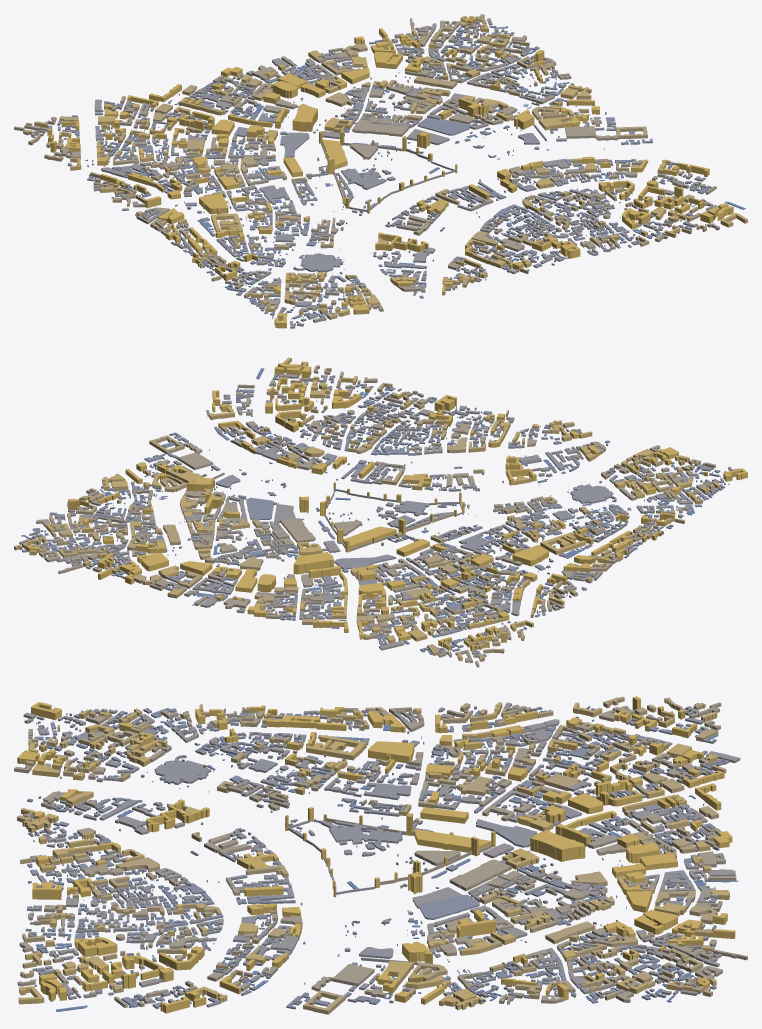
The model's file is buildings.glb.
3 views of the same model, one above another, from view 1: azimuth 30°, elevation 25°; view 2: azimuth 150°, elevation 25°; view 3: azimuth 270°, elevation 25° (orthographic). The views are drawn at different scales.
Visible parts, largest first — view 1: buildings; view 2: buildings; view 3: buildings.
Boxes of the visible parts, left/top/right/bottom form: buildings: left=14, top=14, right=747, bottom=328; buildings: left=14, top=357, right=747, bottom=667; buildings: left=14, top=696, right=747, bottom=1014.
Size of the model in its own units: 2760 by 103 by 2794.
